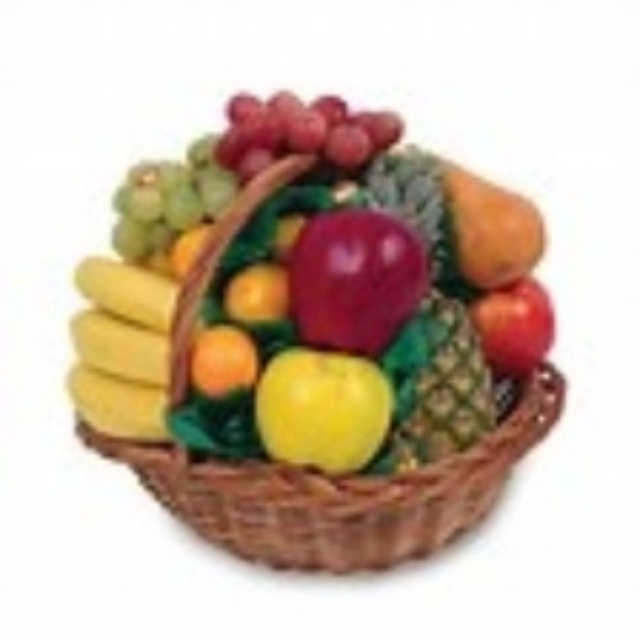kiwi: (114, 158, 233, 256)
